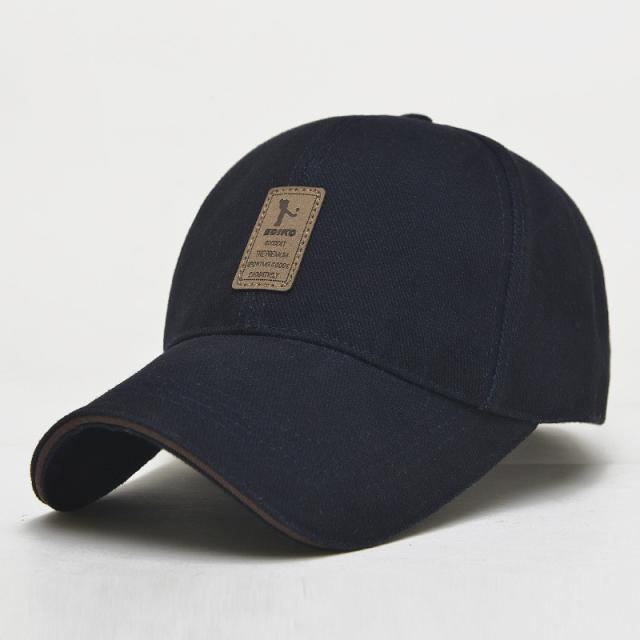Nonhelmet: (28, 109, 613, 553)
